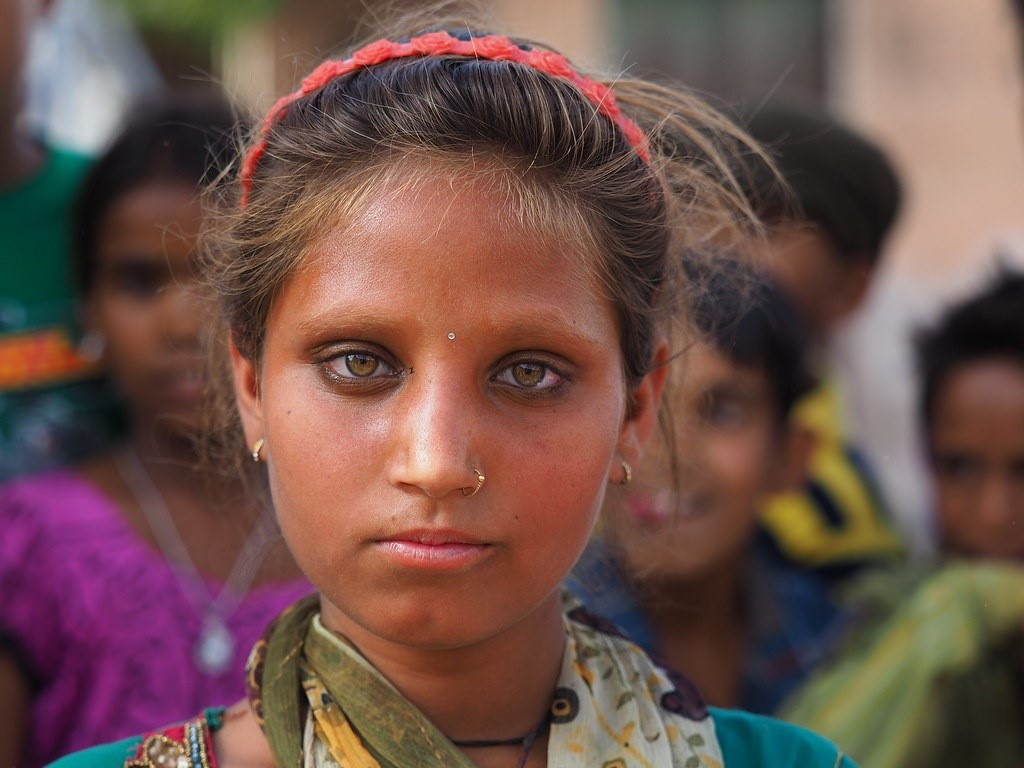face_no_mask: (232, 66, 675, 659)
